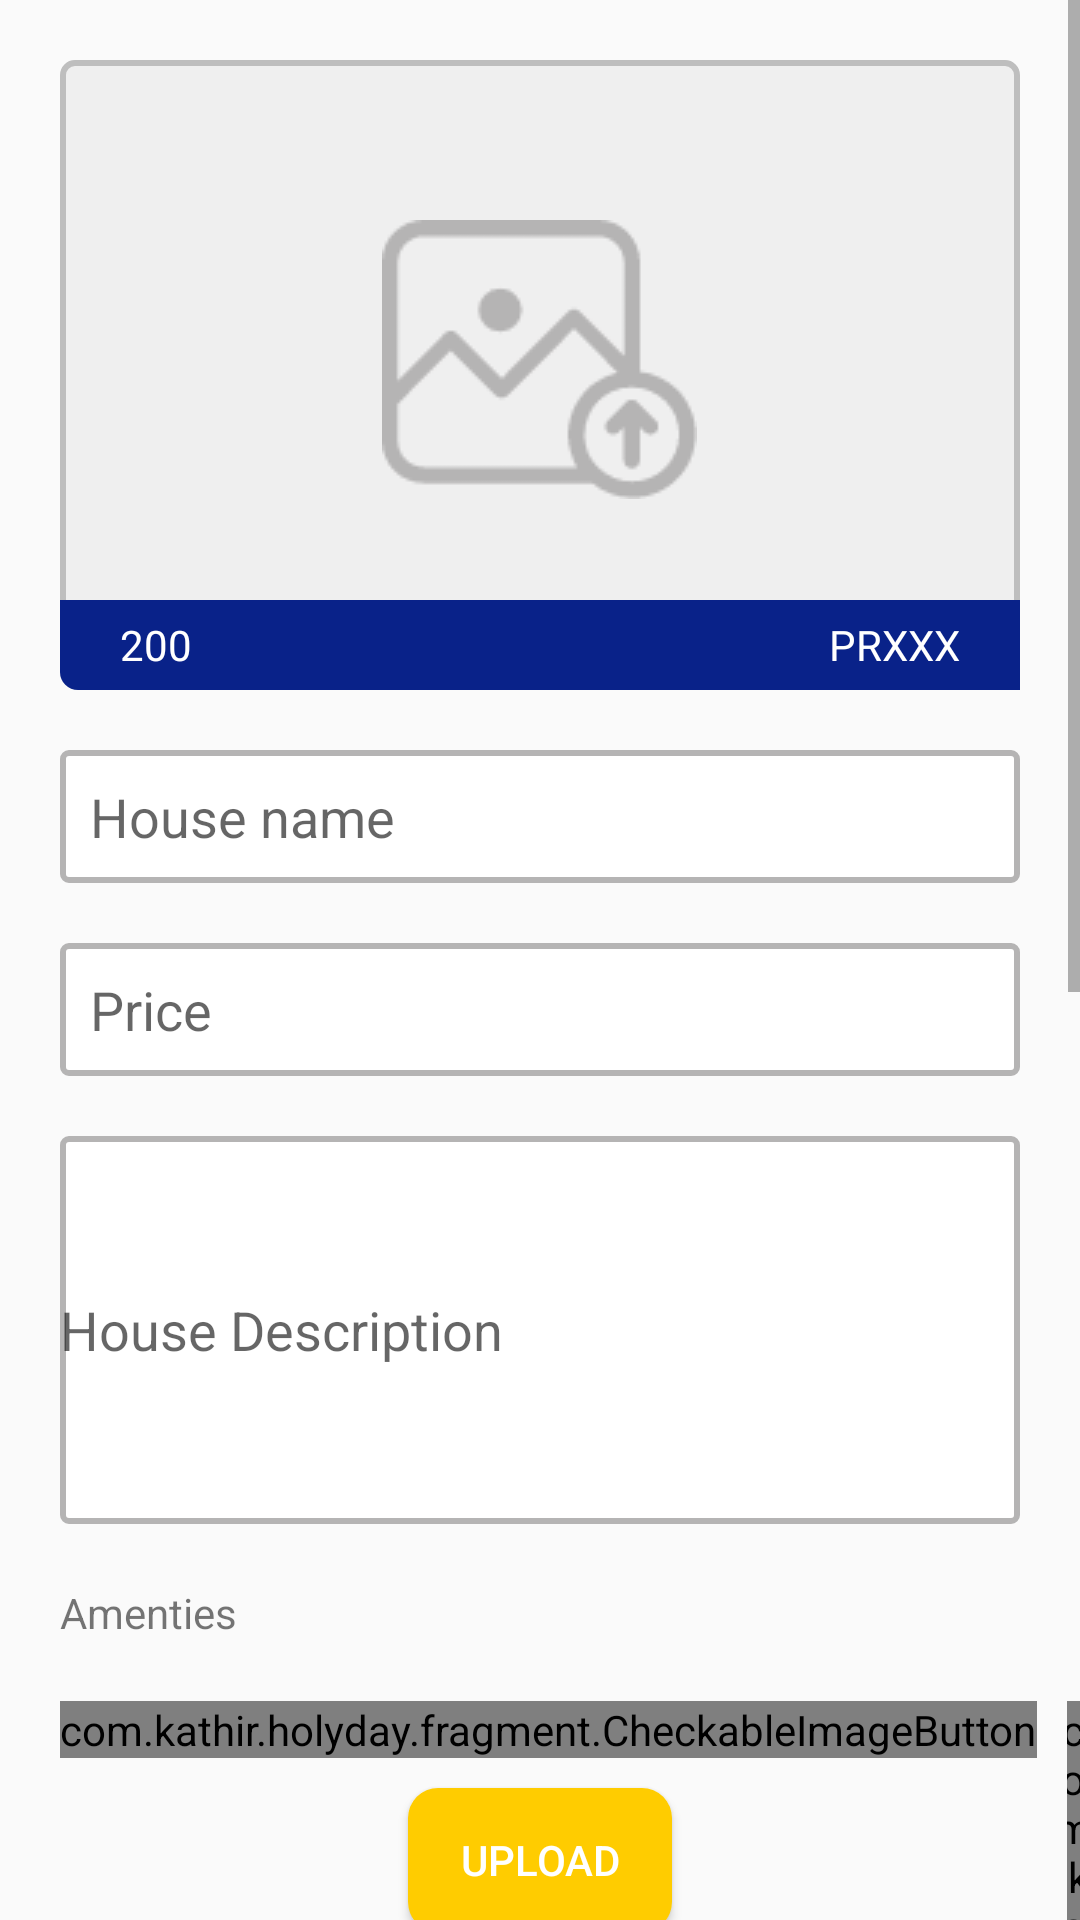

Icon bounding boxes for this 1080×1920 phone screenshot, format (x1, y1, x2, y2):
uploadimage: (382, 220, 697, 499)
